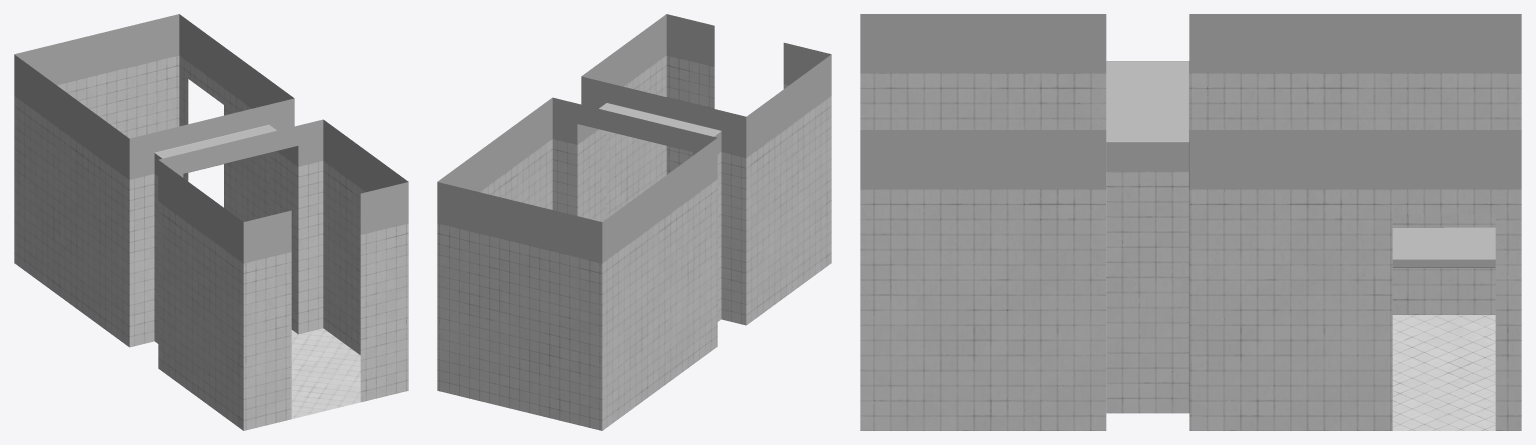
Rendered from BathRoom.FBX.
3 views of the same model, side by side, from view 1: azimuth 30°, elevation 25°; view 2: azimuth 150°, elevation 25°; view 3: azimuth 270°, elevation 25° (orthographic). The views are drawn at different scales.
Visible parts, largest first — view 1: Bathroom_Wall, Bathroom_Wall2, Bathroom_Column, Bathroom_Floor; view 2: Bathroom_Wall, Bathroom_Wall2, Bathroom_Column; view 3: Bathroom_Wall, Bathroom_Wall2, Bathroom_Column, Bathroom_Floor, Bathroom_Marble.
Boxes of the visible parts, box(x1,y1,x2,y2) form: Bathroom_Wall: box(14, 55, 408, 430); Bathroom_Wall2: box(14, 14, 408, 262); Bathroom_Column: box(129, 151, 323, 347); Bathroom_Floor: box(291, 328, 360, 418); Bathroom_Wall: box(437, 55, 831, 430); Bathroom_Wall2: box(437, 14, 831, 262); Bathroom_Column: box(552, 129, 746, 325); Bathroom_Wall: box(860, 73, 1521, 430); Bathroom_Wall2: box(860, 14, 1521, 189); Bathroom_Column: box(1106, 171, 1189, 413); Bathroom_Floor: box(1392, 315, 1495, 430); Bathroom_Marble: box(1392, 227, 1495, 267).
Size of the model in its own units: 2.4 by 2.9 by 5.78.
